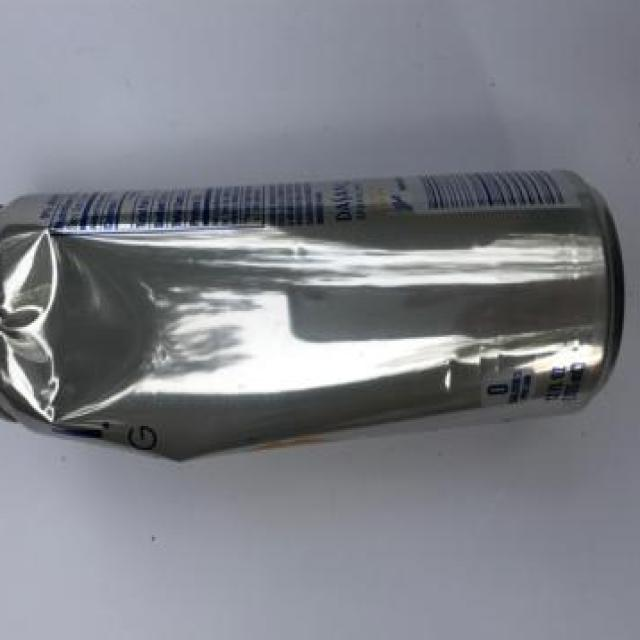organic: (8, 147, 632, 483)
